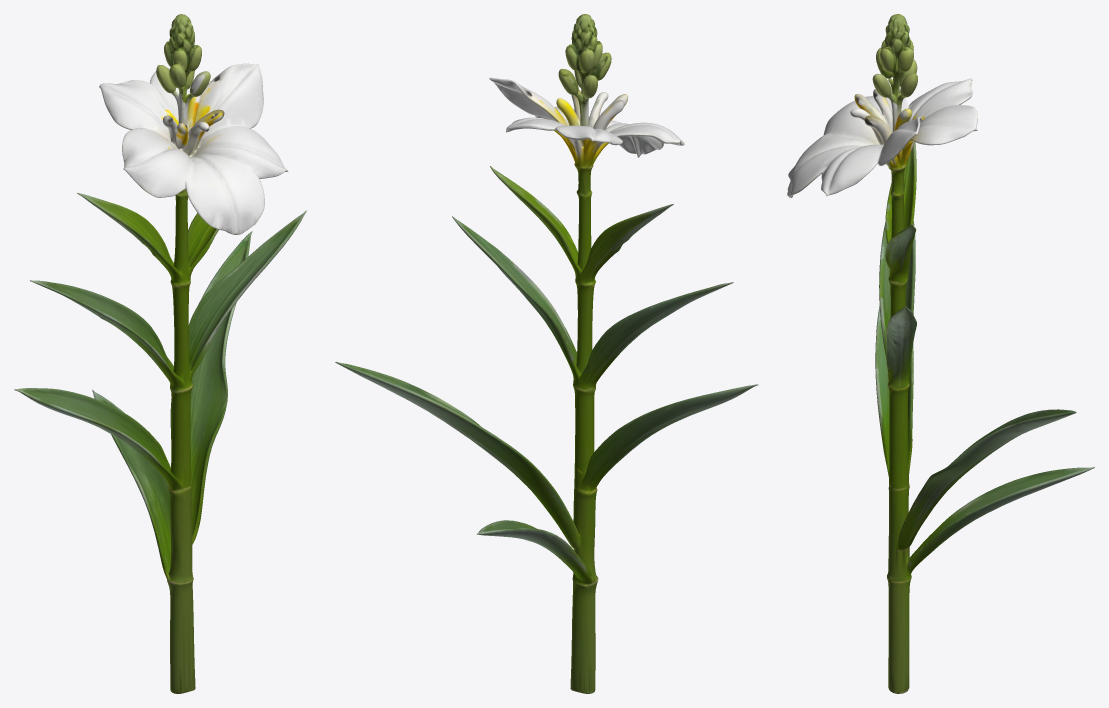
File: jianghua.glb
The picture shows the model from 3 angles, left to right: view 1: azimuth 30°, elevation 25°; view 2: azimuth 150°, elevation 25°; view 3: azimuth 270°, elevation 25°; orthographic projection.
Visible parts, largest first — view 1: node_0; view 2: node_0; view 3: node_0.
Boxes of the visible parts, <box> form: node_0: <box>14,14,306,693</box>; node_0: <box>335,14,758,693</box>; node_0: <box>787,14,1094,693</box>.
Bounding box in the file's own units: 0.6104 × 1.19 × 0.493.
Materials: 1 (1 with a texture image).
